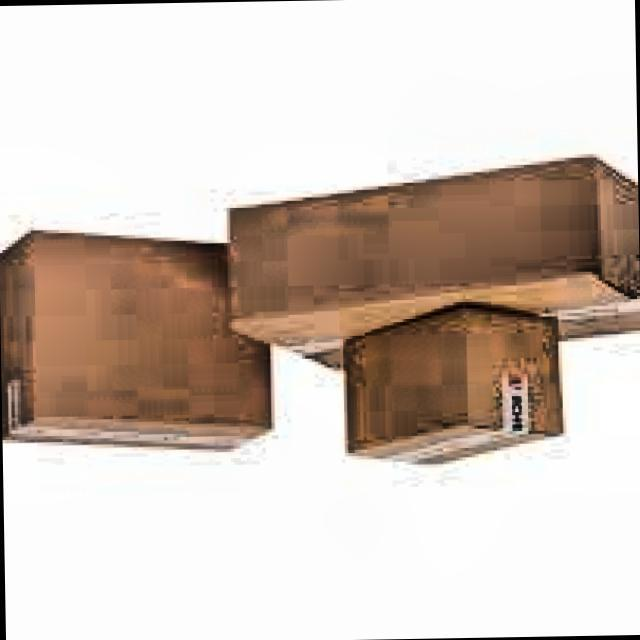cardboard: (222, 155, 640, 375), (0, 225, 271, 458), (338, 306, 564, 472)
